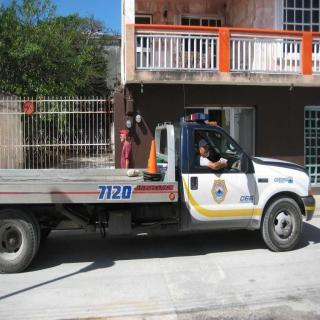Towing_truck: (0, 113, 316, 274)
